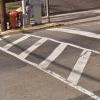Crosswalk: (2, 27, 86, 90)
